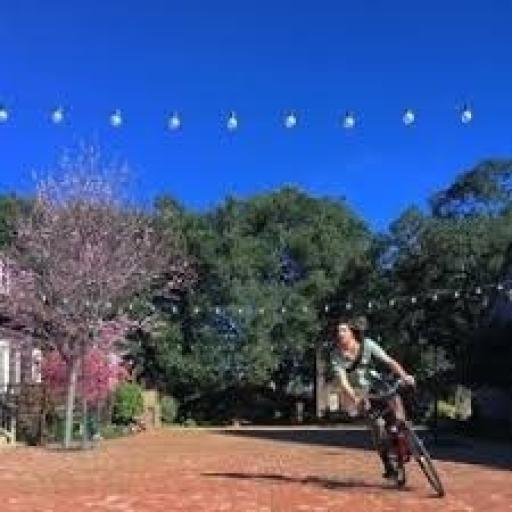cycling: (323, 312, 423, 487)
